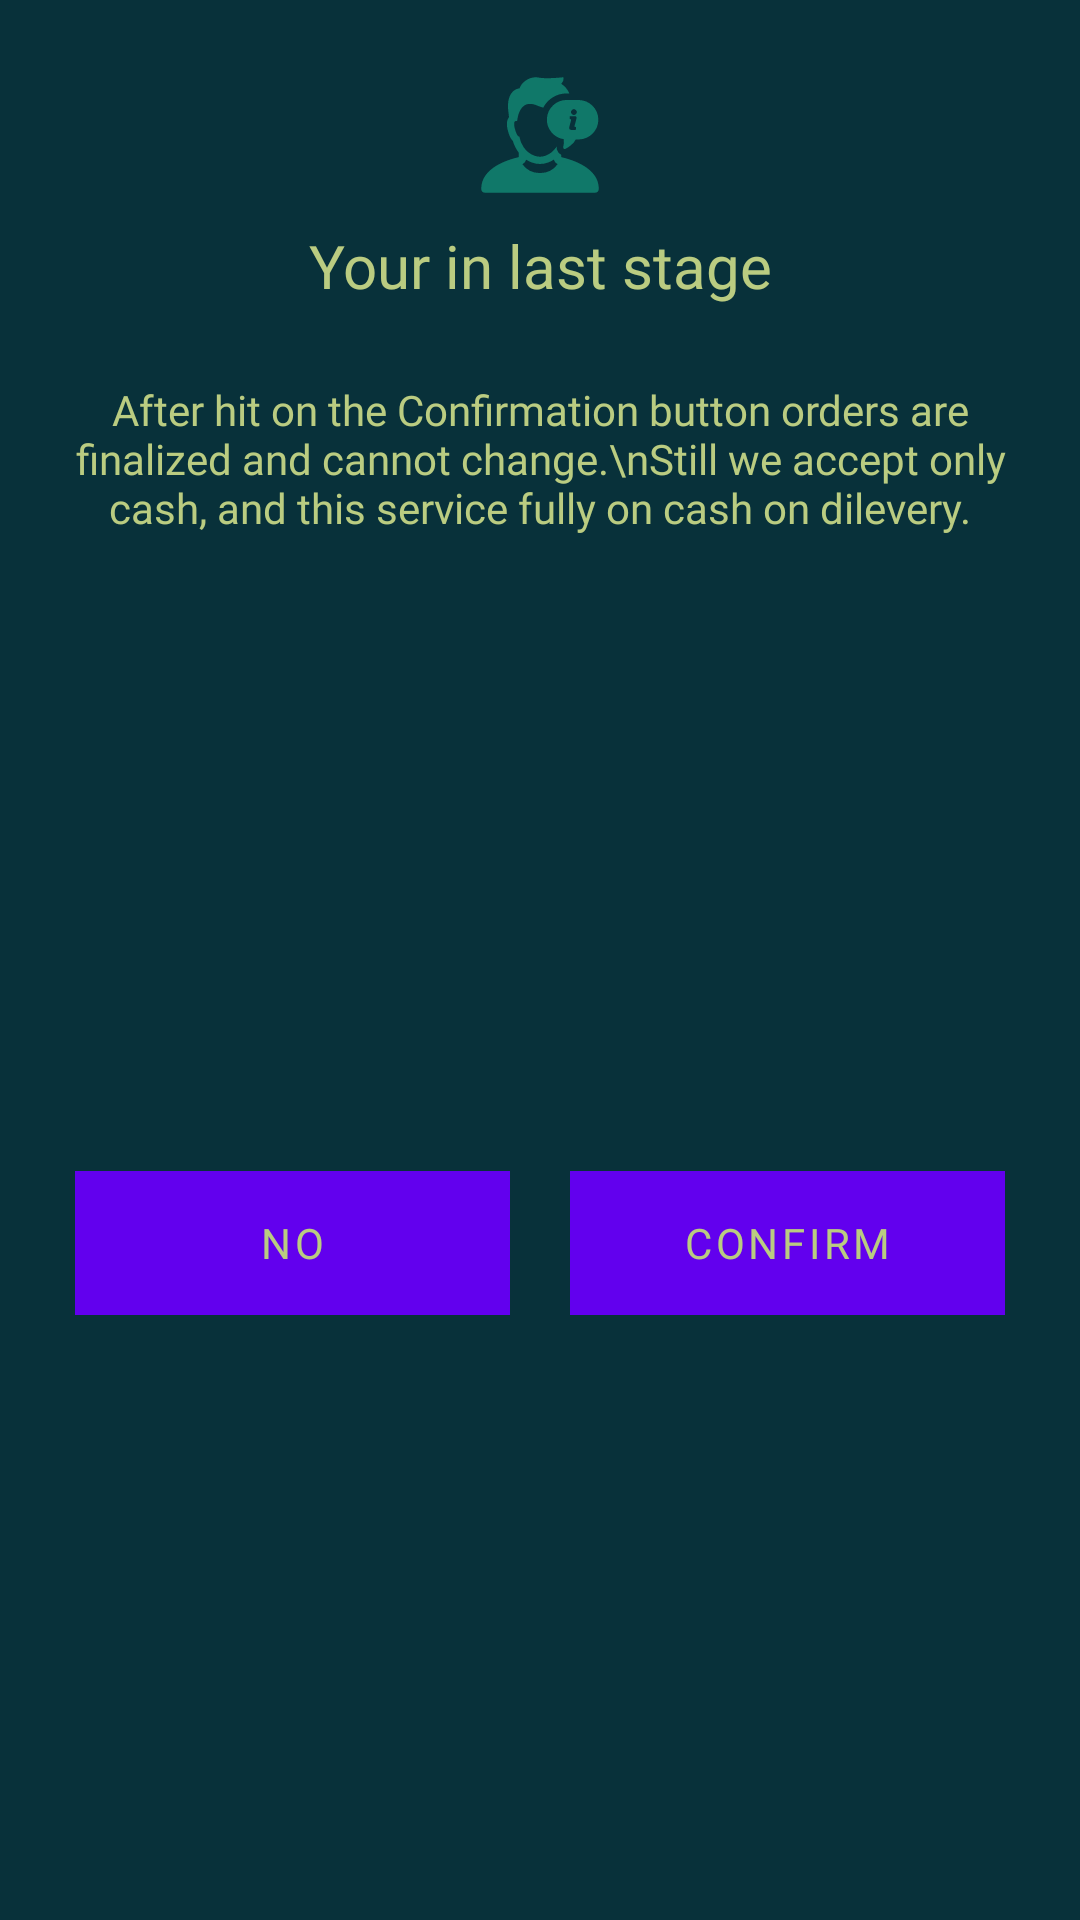

Screen size 1080*1920. Icon name, then its box in pixels as bbox(x1, y1, x2, y2):
noun information: bbox(481, 77, 599, 193)
